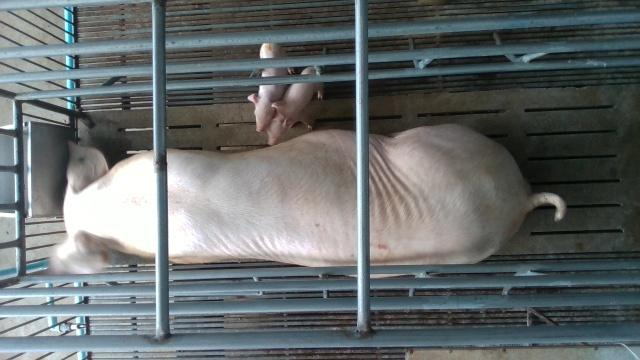piglet: (266, 66, 325, 147), (248, 43, 295, 132)
sow-sit: (46, 123, 569, 278)
